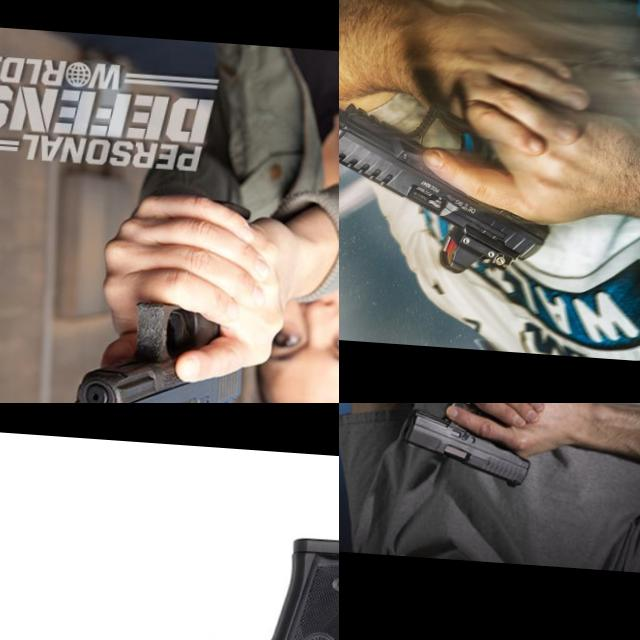handgun: (0, 508, 339, 640), (339, 85, 559, 279), (65, 292, 252, 403), (391, 403, 535, 489)
